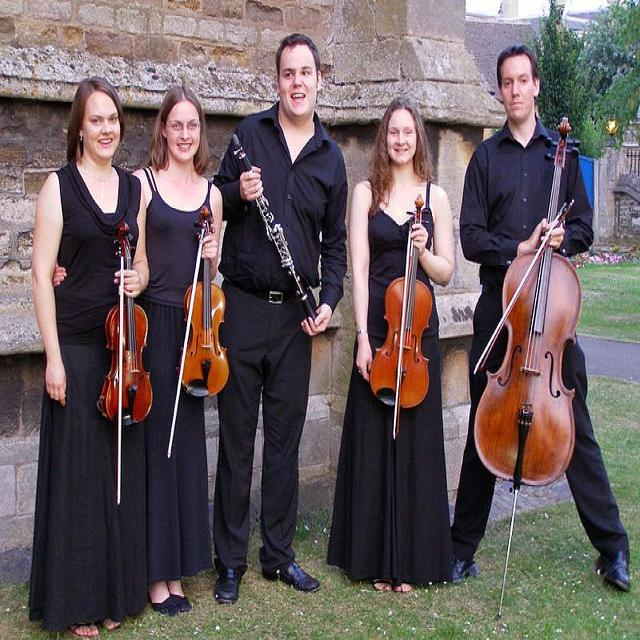cello: (471, 115, 585, 493)
clarinet: (230, 132, 324, 331)
violin: (367, 193, 440, 409), (97, 222, 154, 429), (175, 205, 231, 397)
